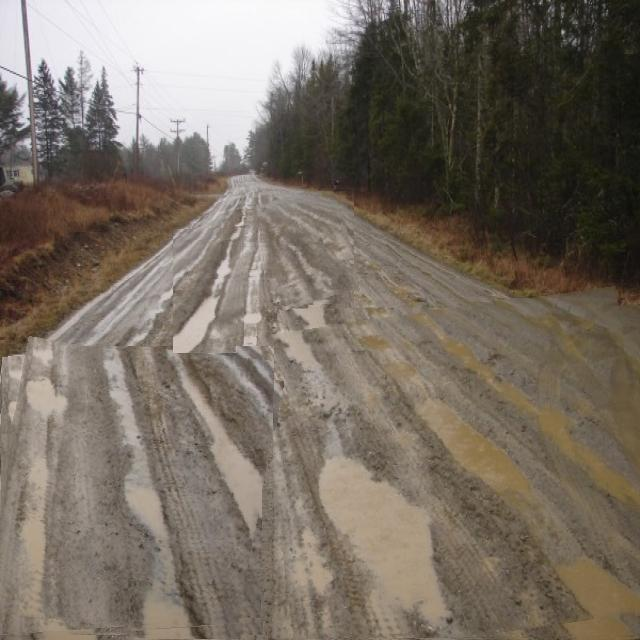Pothole: (266, 298, 640, 640), (0, 346, 274, 640), (260, 191, 354, 307), (174, 229, 244, 353)
